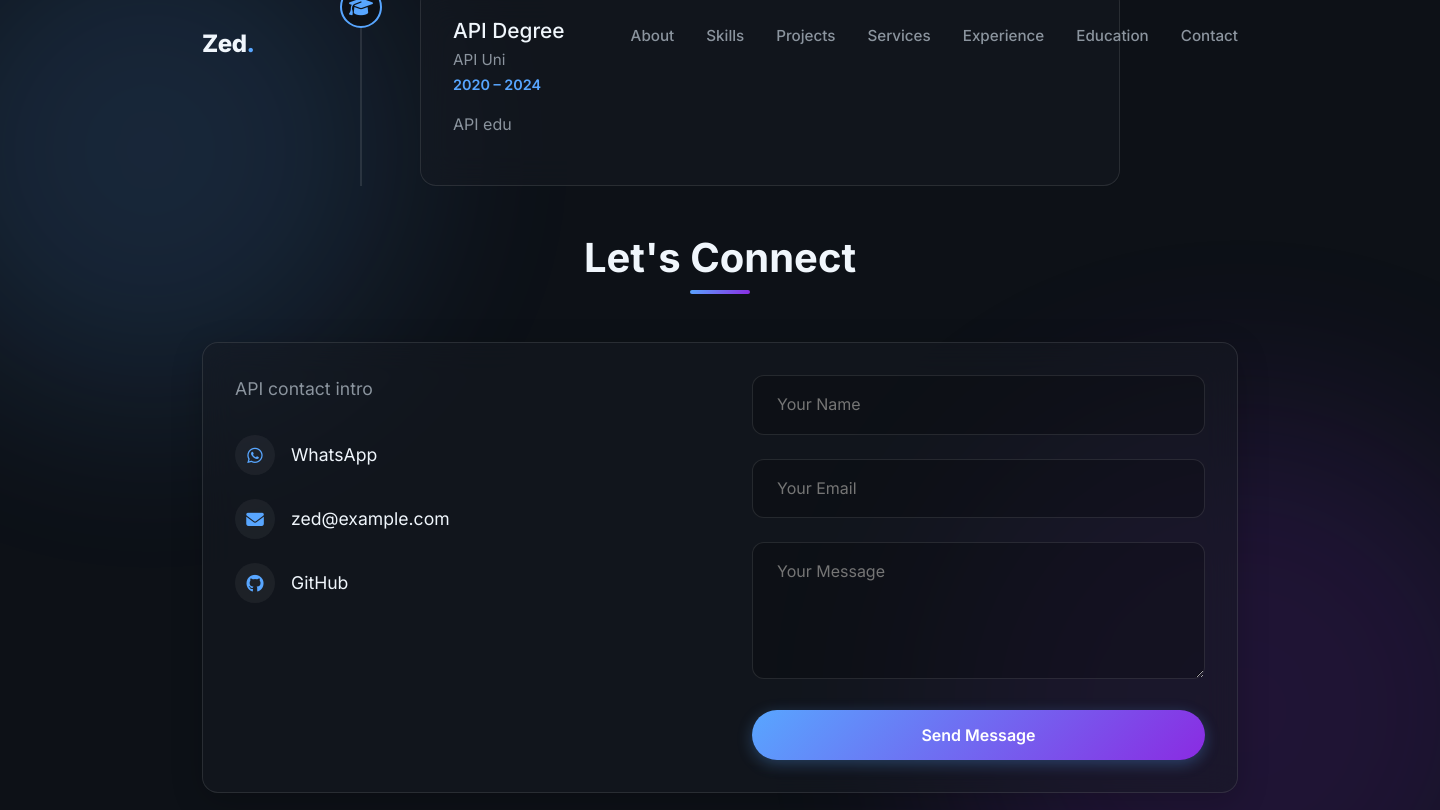
Test case: contact form + EmailJS › sends name/email/message to EmailJS with the configured ids and public key
(page scrolled)
Type "Visitor" into the field with placeholder "Your Name" at (978, 405), box [752,375,1205,435]
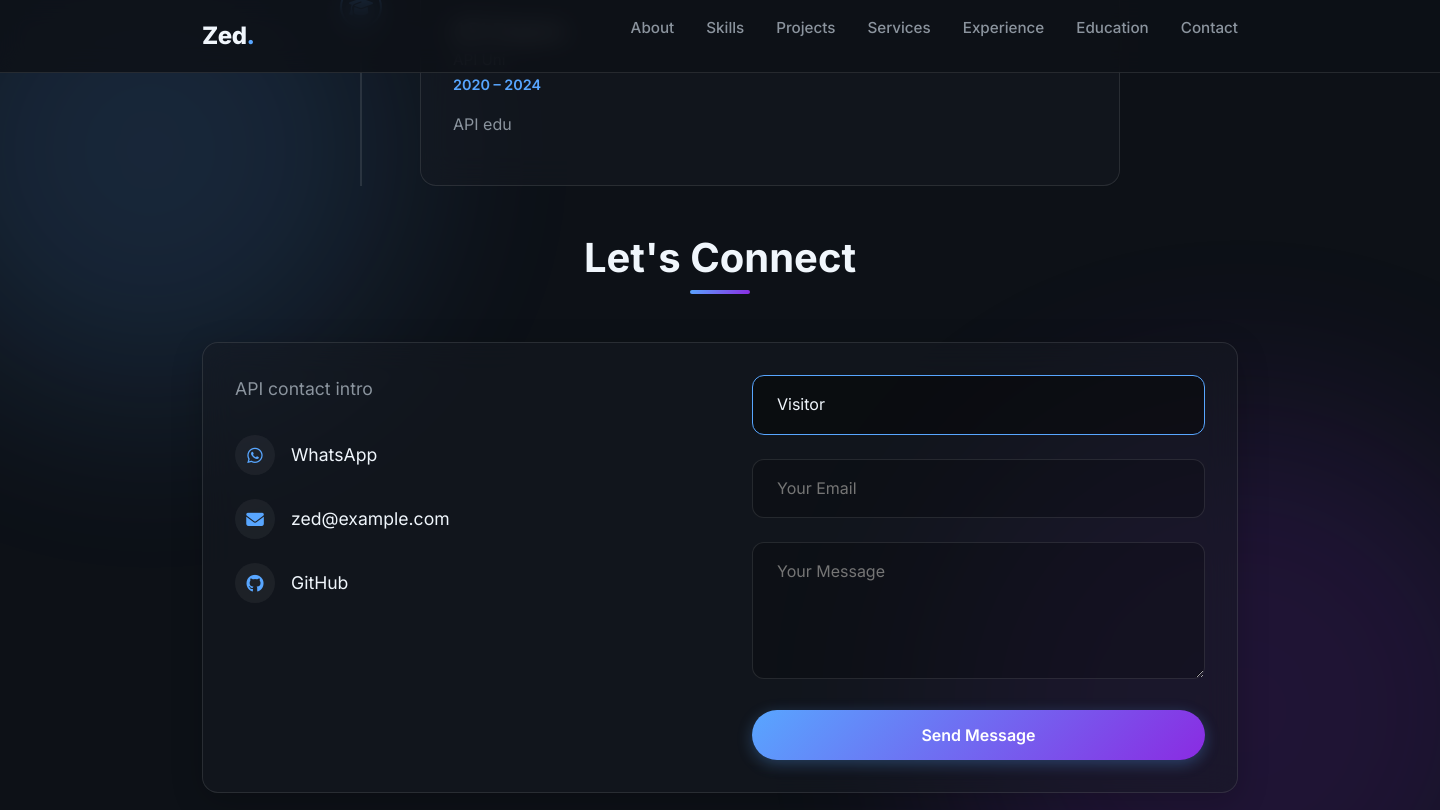
Type "v@example.com" into the field with placeholder "Your Email" at (978, 489), box [752,459,1205,518]
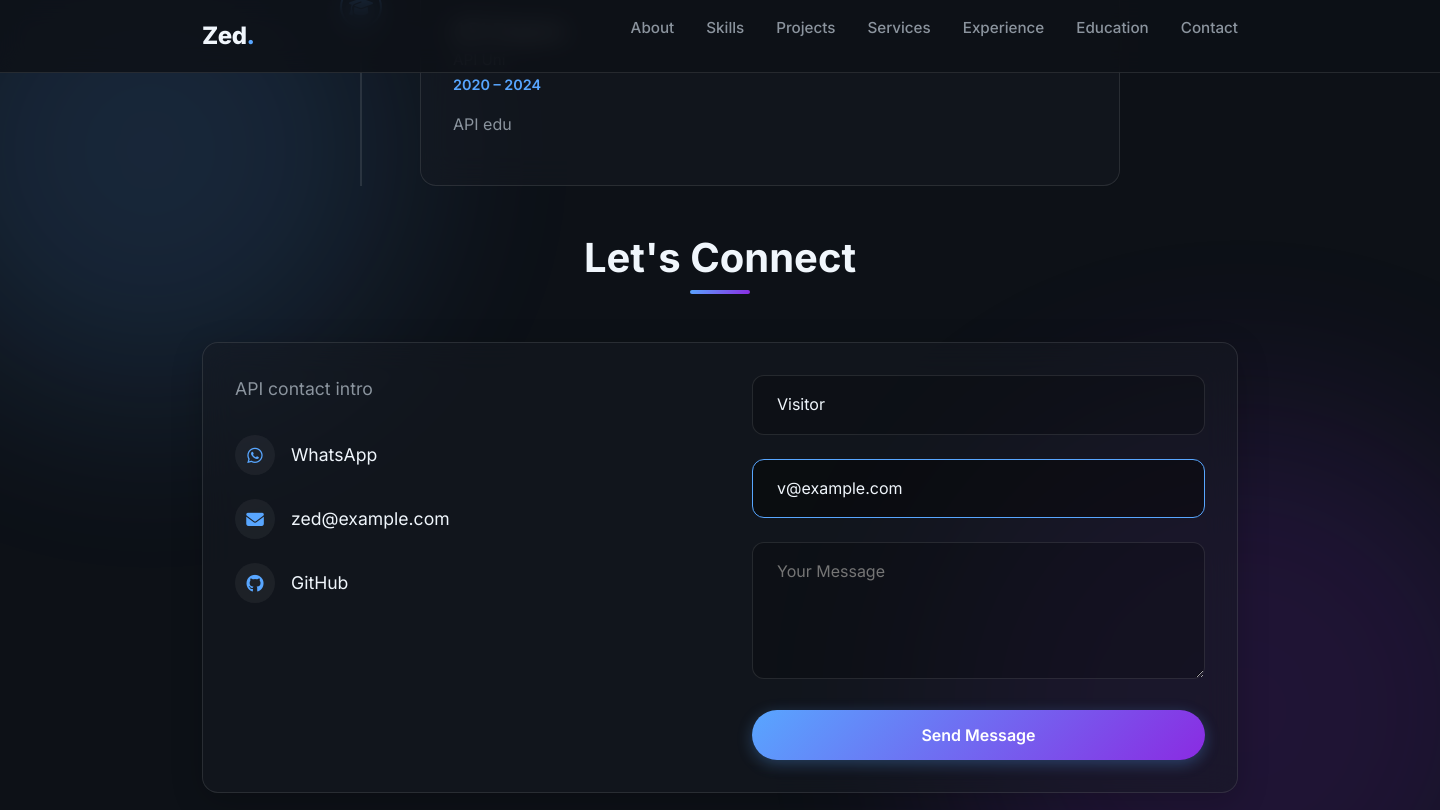
Type "Hello there" into the text box with placeholder "Your Message" at (978, 611), box [752,542,1205,679]
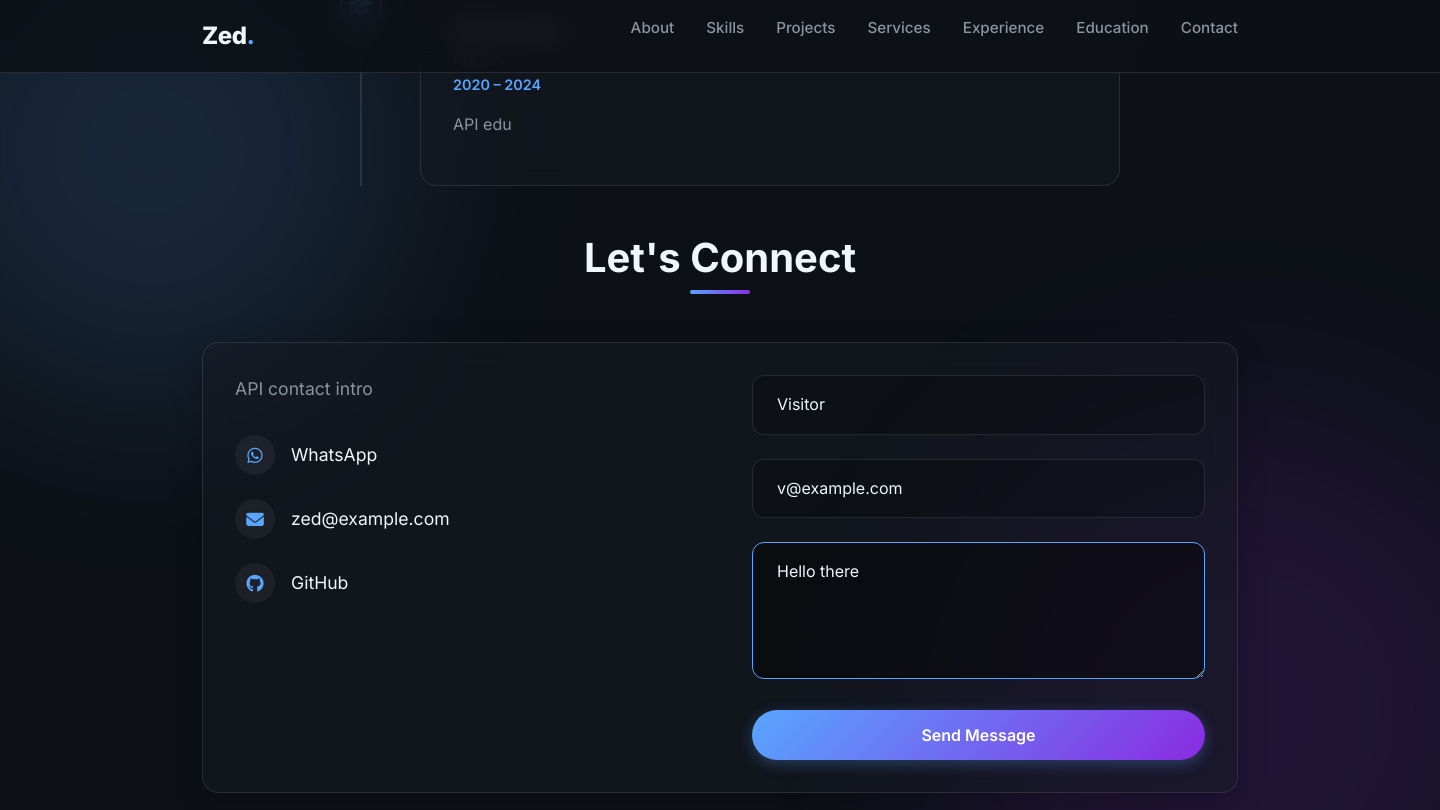
Click the button "Send Message" at (978, 735), box [752,710,1205,760]
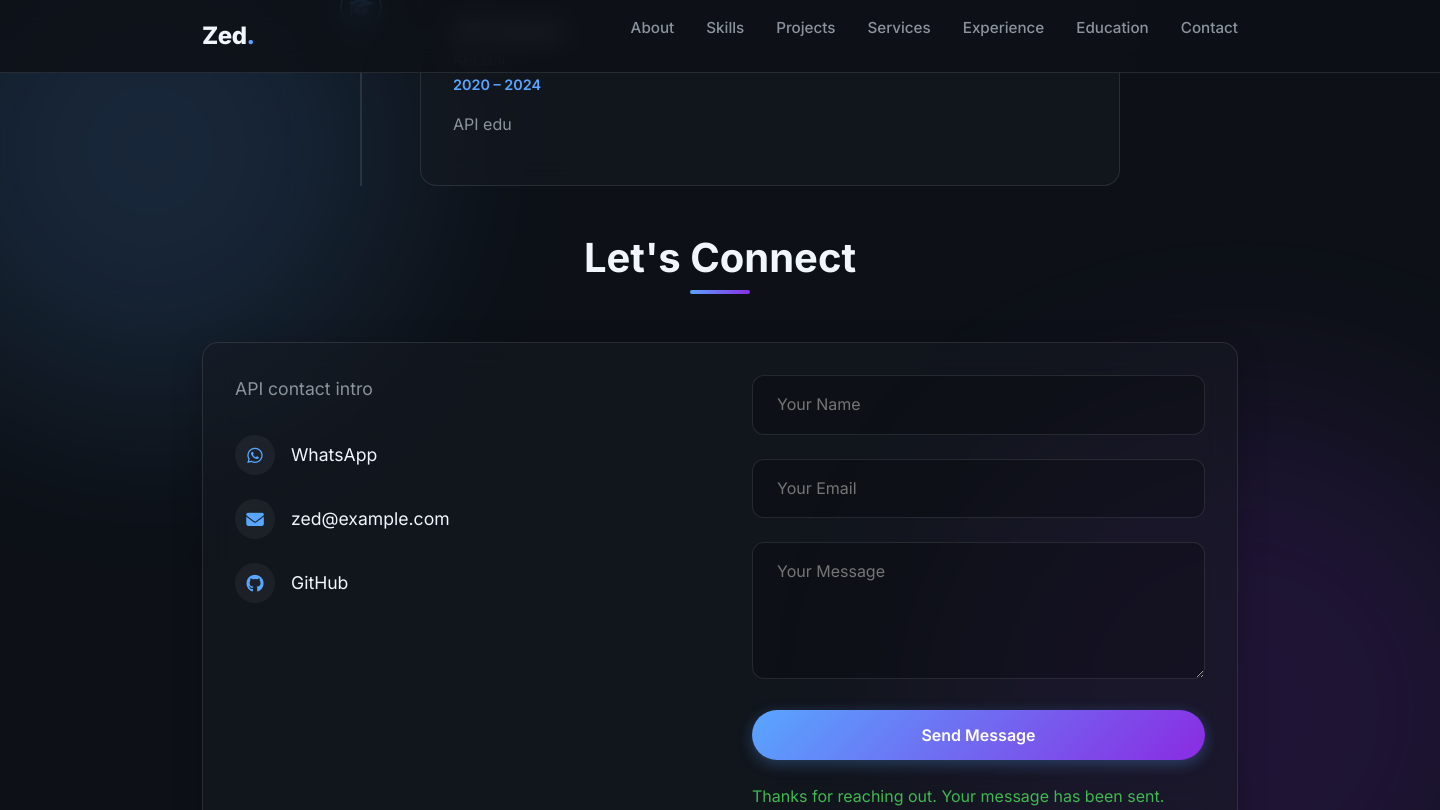
expect the text "Thanks for reaching out. Your message has been sent." is shown: met, box [752,784,1205,809]
expect the field with placeholder "Your Name" is empty: met, box [752,375,1205,435]
